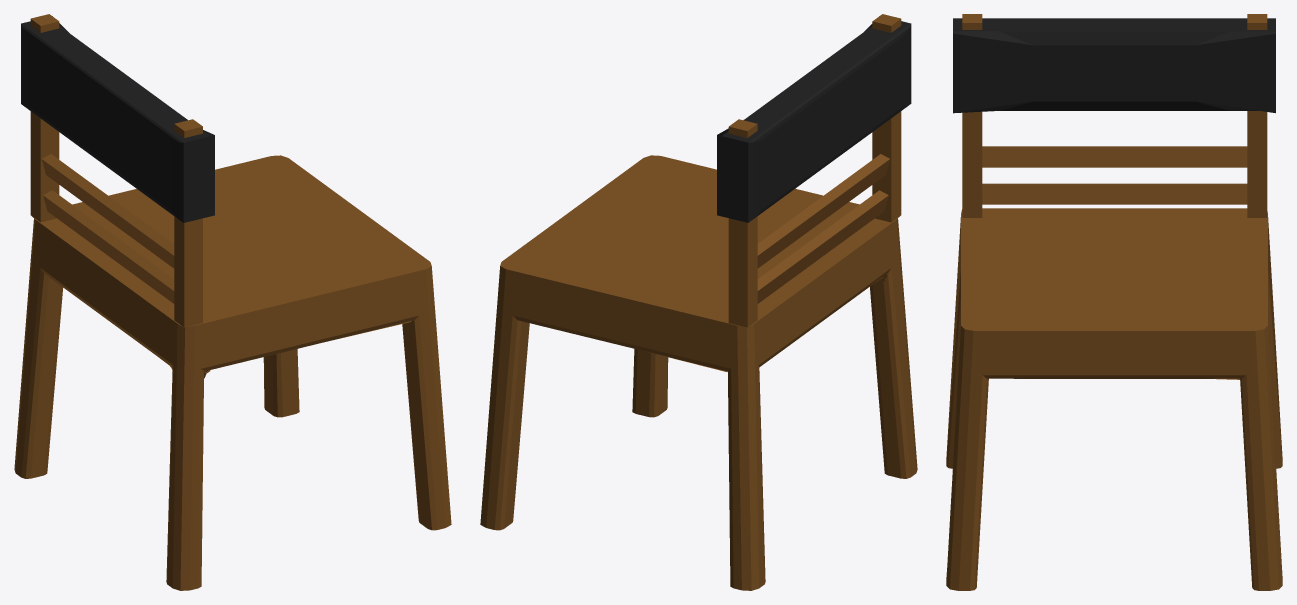
The model's file is Chair.fbx.
3 views of the same model, side by side, from view 1: azimuth 30°, elevation 25°; view 2: azimuth 150°, elevation 25°; view 3: azimuth 270°, elevation 25° (orthographic).
Visible parts, largest first — view 1: Chair; view 2: Chair; view 3: Chair.
Boxes of the visible parts, bbox=[...] form: Chair: bbox=[14, 14, 451, 590]; Chair: bbox=[480, 14, 917, 590]; Chair: bbox=[946, 14, 1282, 590].
Size of the model in its own units: 98.9 by 154 by 105.
